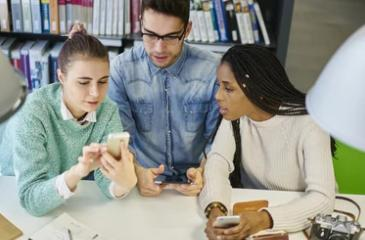phone: (199, 43, 335, 240), (17, 32, 133, 208)
